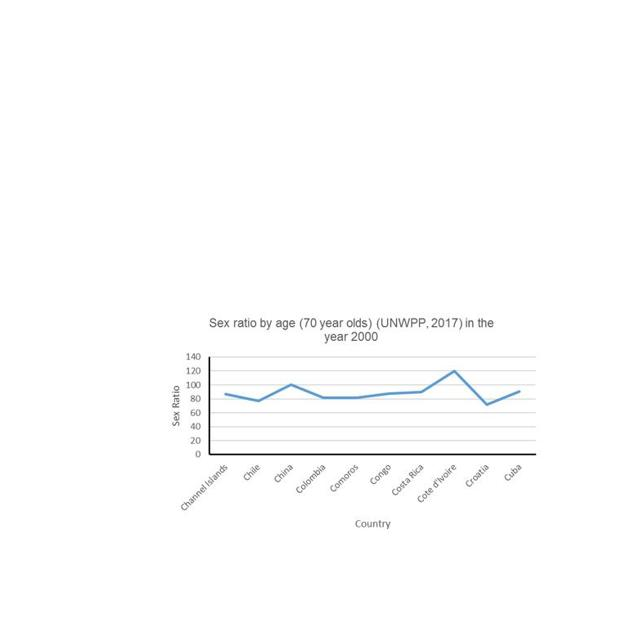Graph: (162, 313, 541, 534)
